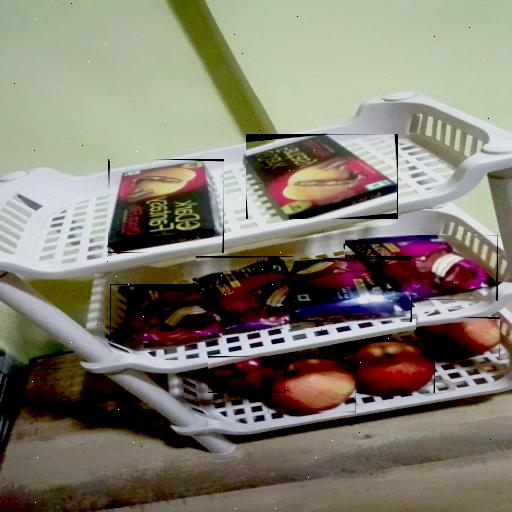Apple: (268, 360, 355, 412), (349, 342, 434, 393), (417, 319, 499, 357), (208, 356, 285, 393)
Choco Fills: (246, 135, 397, 219), (109, 161, 223, 252)
Choco Pie: (345, 235, 498, 300), (287, 258, 411, 319), (196, 257, 292, 329), (111, 285, 222, 341)
